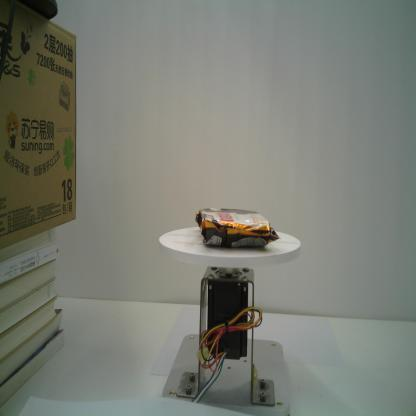Dessert: (192, 205, 280, 250)
